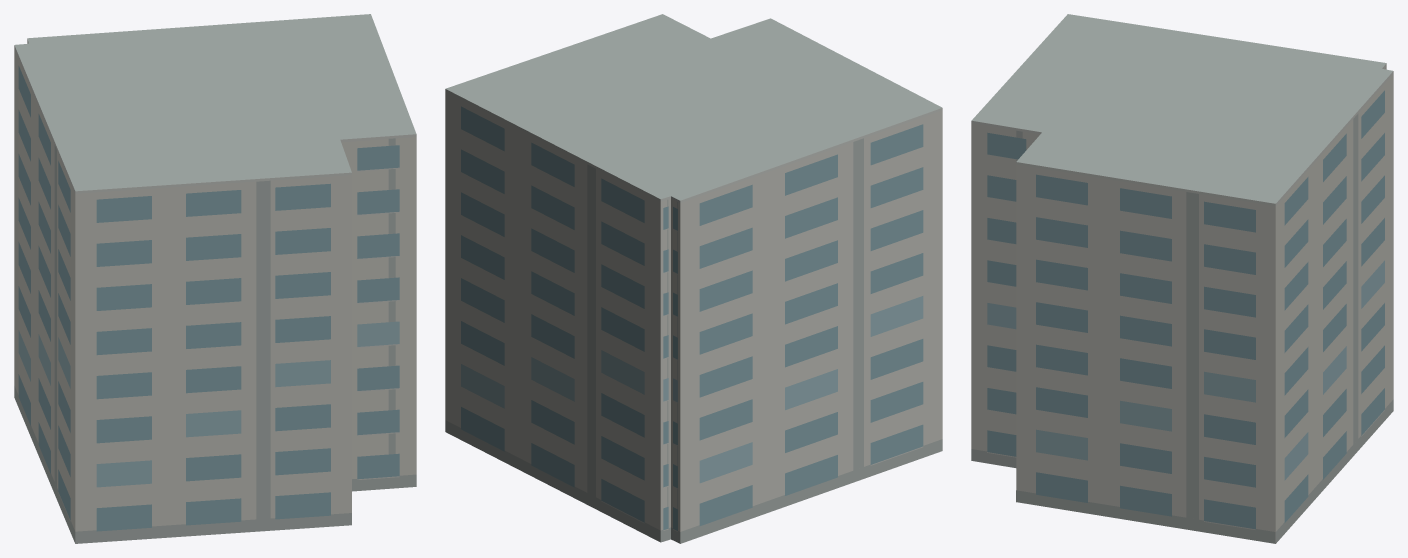
The model's file is survey-upis-32509135.glb.
The picture shows the model from 3 angles, left to right: view 1: azimuth 30°, elevation 25°; view 2: azimuth 150°, elevation 25°; view 3: azimuth 270°, elevation 25°; orthographic projection. The views are drawn at different scales.
Parts seen in each view (by area): view 1: survey-upis-32509135.tmp; view 2: survey-upis-32509135.tmp; view 3: survey-upis-32509135.tmp.
Boxes of the visible parts, <box> form: survey-upis-32509135.tmp: <box>14,14,416,543</box>; survey-upis-32509135.tmp: <box>445,14,942,543</box>; survey-upis-32509135.tmp: <box>971,14,1393,543</box>.
Bounding box in the file's own units: 39.21 × 32.75 × 36.85.
